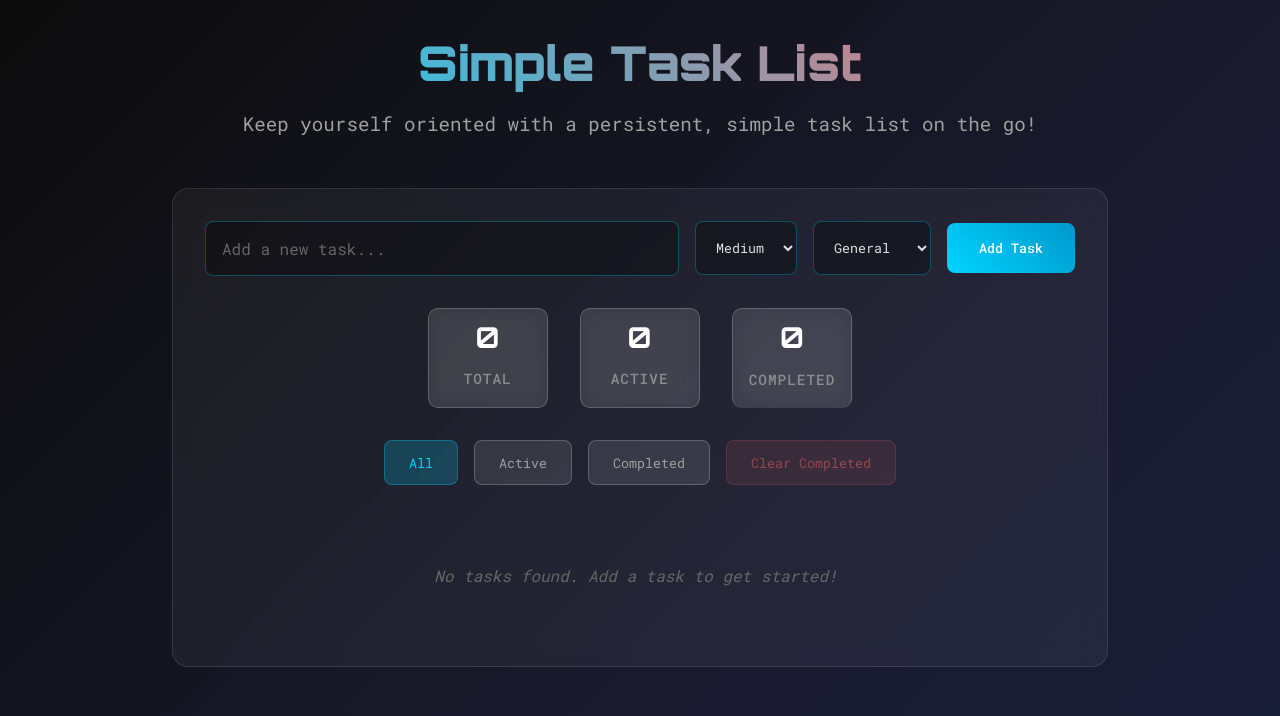
it: TaskList › Task Management › adds a new task
In the field with placeholder "Add a new task...": (442, 248) [205, 221, 679, 276], type "Test task"
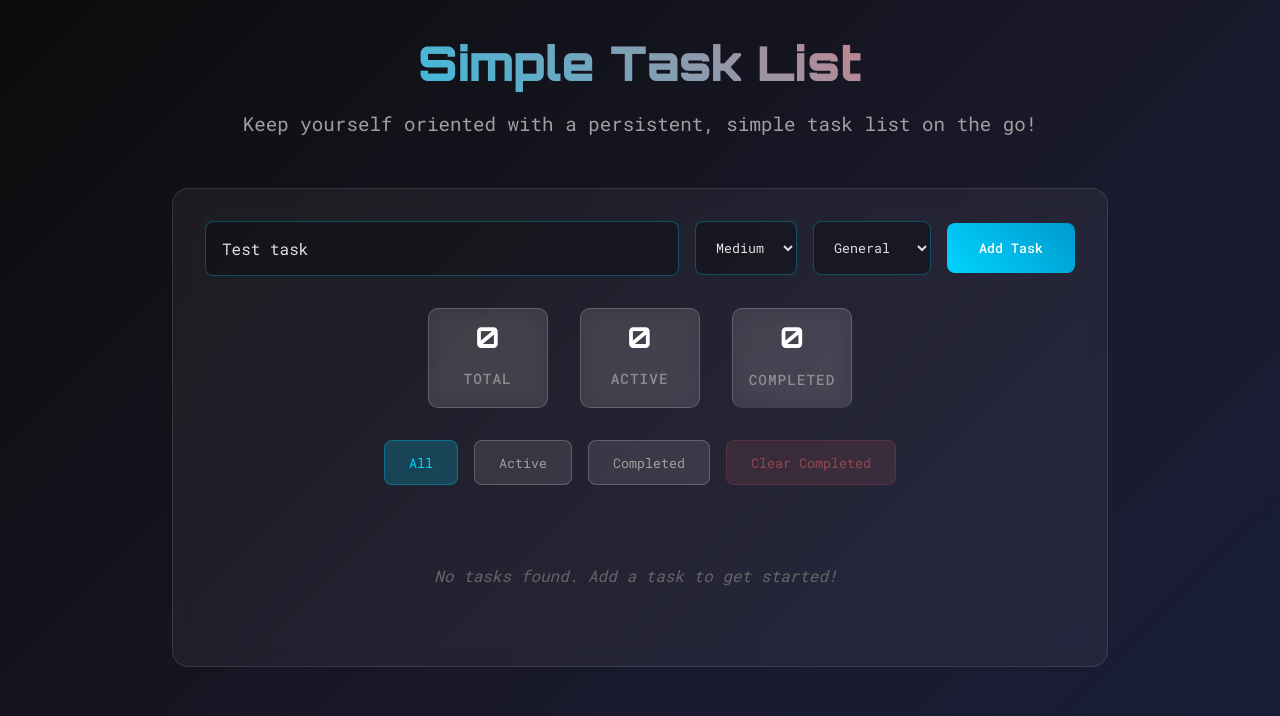
Click the button "Add Task": (1011, 248) [947, 223, 1075, 273]
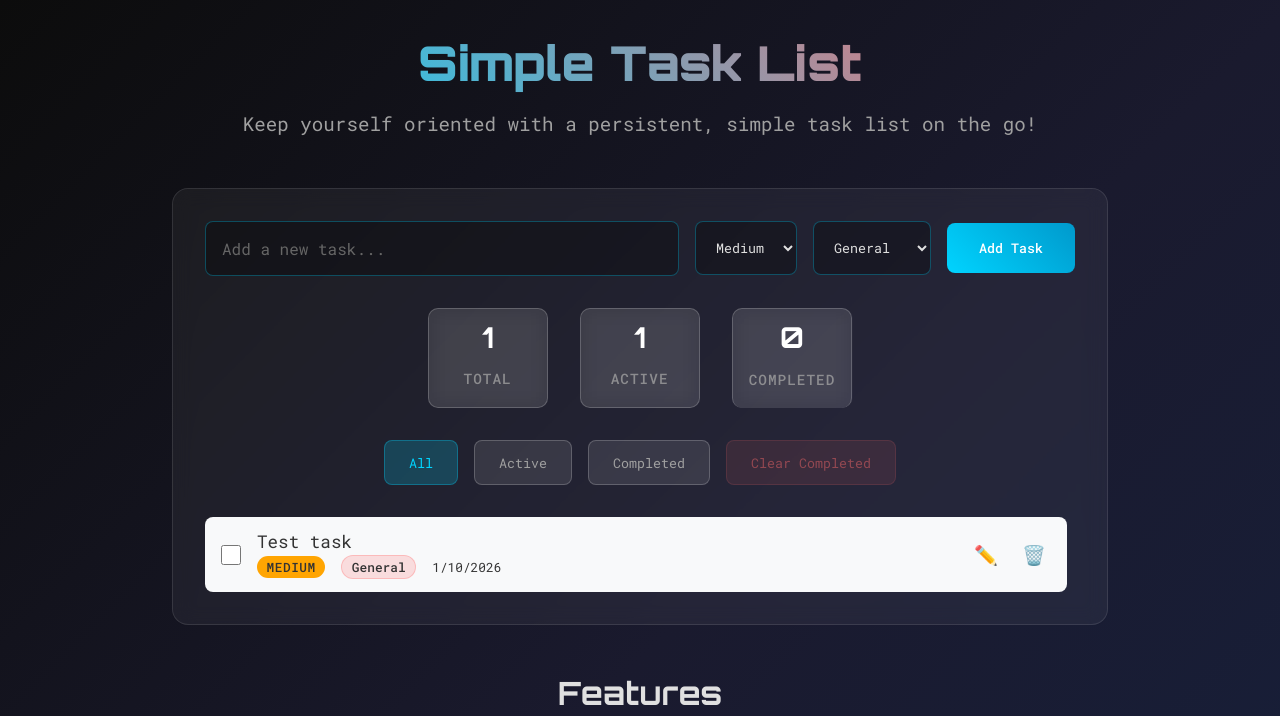
Expected: the text "Test task" is shown, [257, 530, 352, 553]
